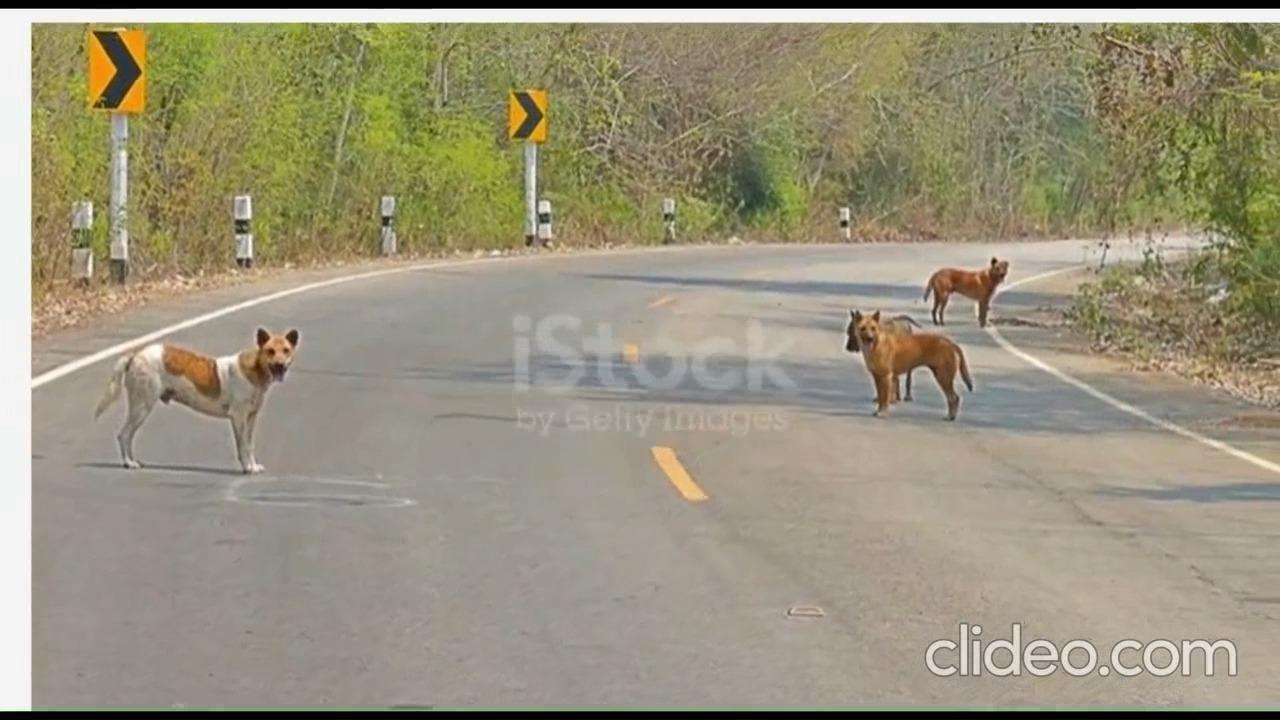dog: (94, 322, 298, 473), (853, 305, 971, 419), (920, 260, 1008, 334)
